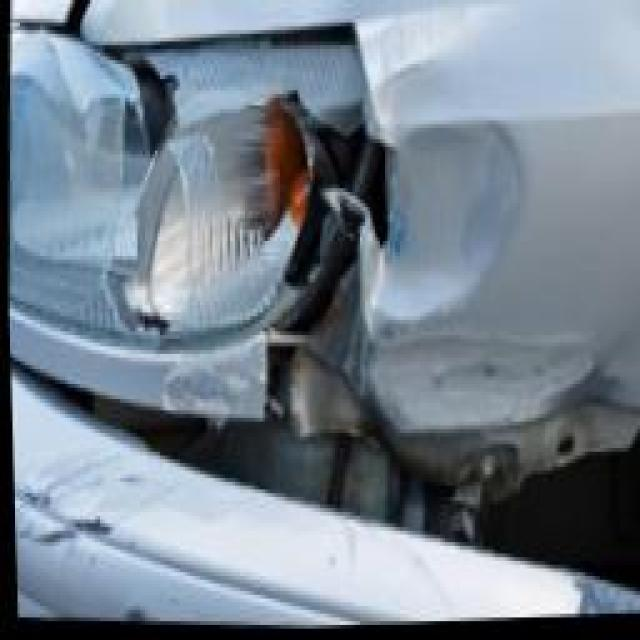Bumper: (8, 343, 348, 640)
Fender: (358, 19, 619, 423)
Light: (0, 15, 356, 374)
